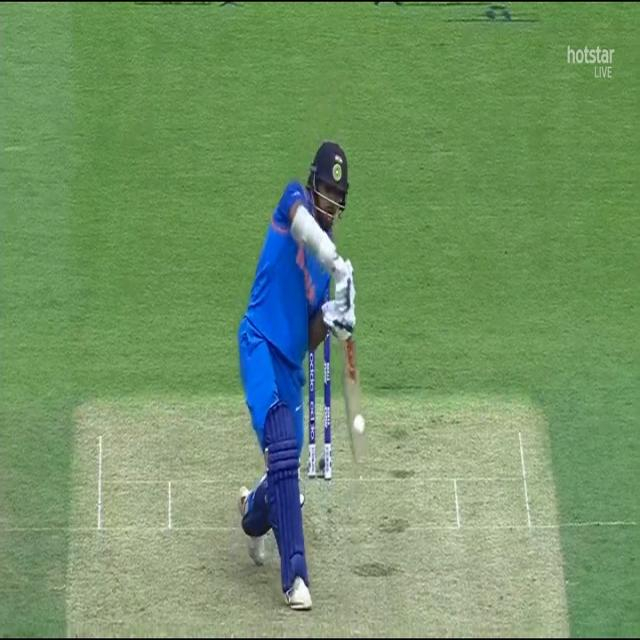ball: (351, 413, 364, 442)
stump: (301, 338, 334, 478)
